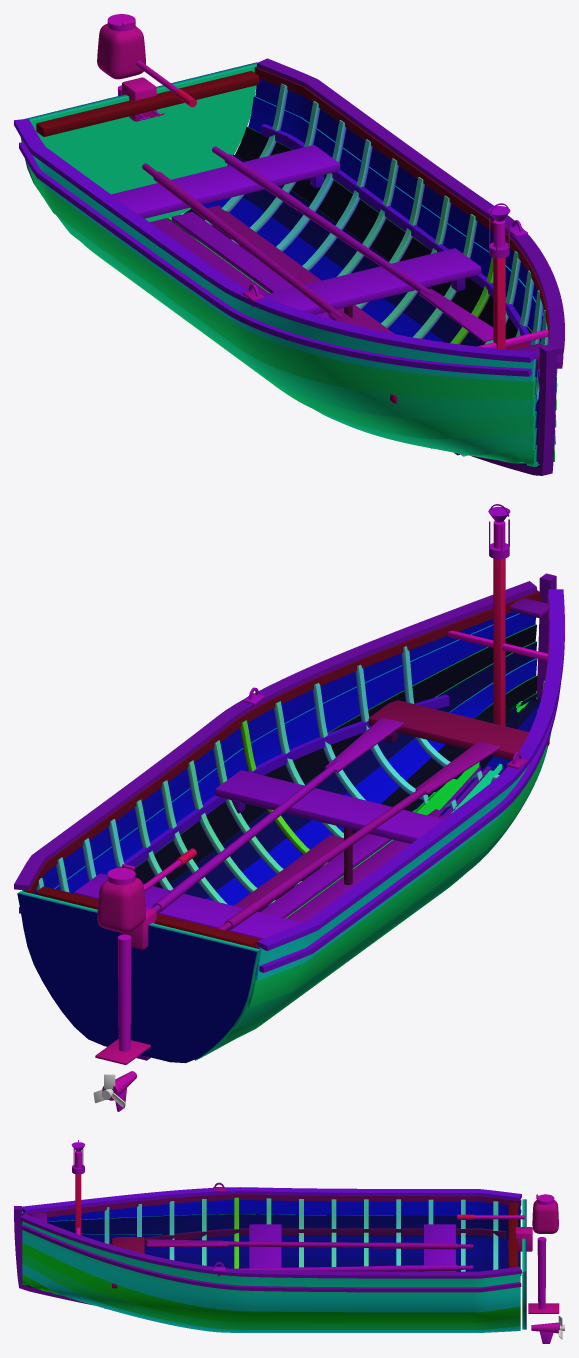
File: Boat.fbx
3 renders of one model, top to bottom at view 1: azimuth 30°, elevation 25°; view 2: azimuth 150°, elevation 25°; view 3: azimuth 270°, elevation 25°, orthographic. The views are drawn at different scales.
Visible parts, largest first — view 1: BoatHull; view 2: BoatHull; view 3: BoatHull.
Boxes of the visible parts, bbox=[...] form: BoatHull: bbox=[14, 14, 564, 475]; BoatHull: bbox=[14, 504, 564, 1111]; BoatHull: bbox=[14, 1140, 559, 1343].
Size of the model in its own units: 1.64 by 1.8 by 4.42.
